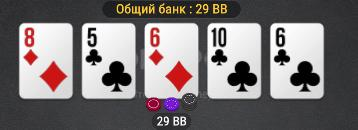10c: (208, 24, 260, 98)
5c: (83, 25, 135, 98)
6c: (272, 25, 323, 97)
6d: (147, 24, 197, 99)
8d: (21, 25, 72, 97)
